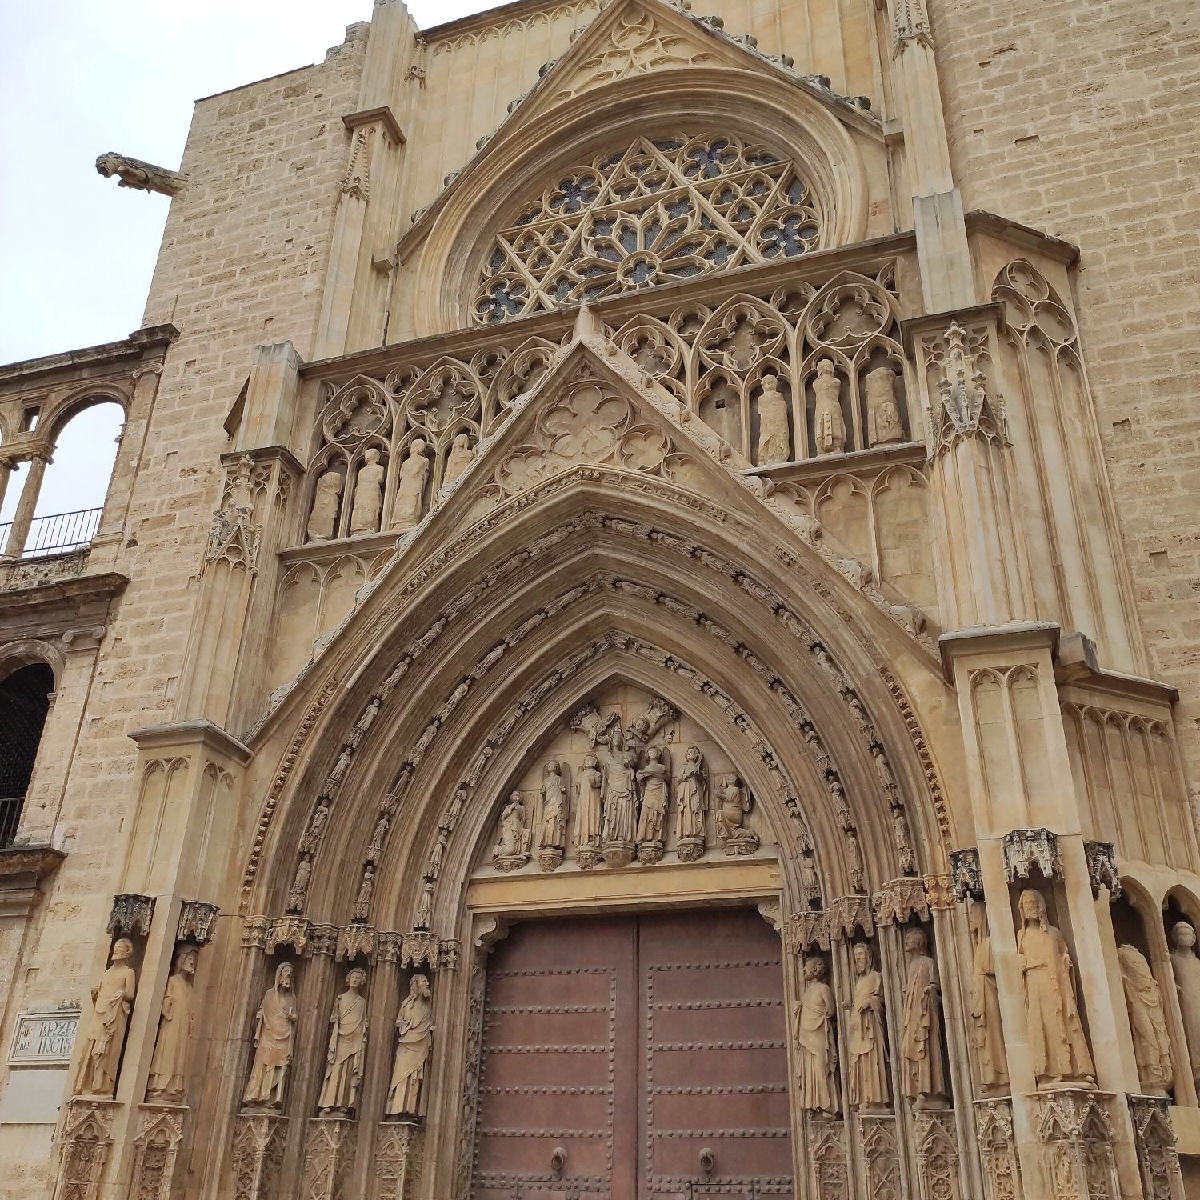arco-apuntado: (234, 457, 937, 870)
